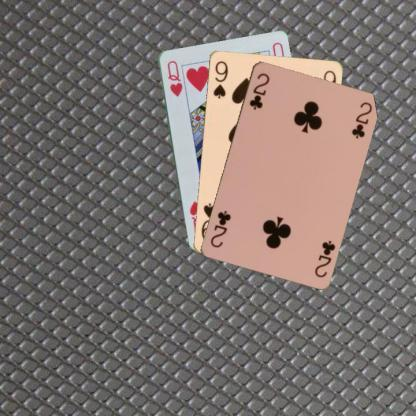2c: (311, 238, 337, 278), (246, 70, 271, 111)
9s: (210, 58, 230, 100)
Qh: (164, 58, 184, 98)
